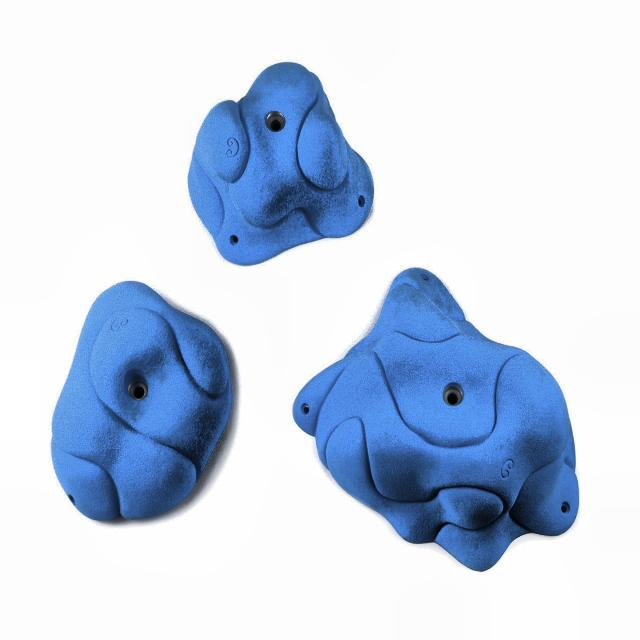Hold: (293, 268, 579, 574), (53, 280, 236, 525), (188, 62, 375, 266)
